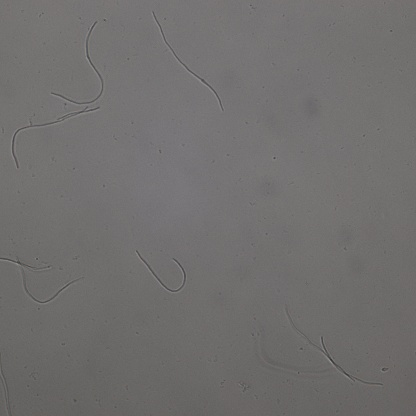Sensitive: (287, 310, 383, 388), (152, 13, 223, 111), (11, 106, 105, 168), (50, 21, 105, 105), (1, 253, 85, 304), (137, 250, 187, 293)
